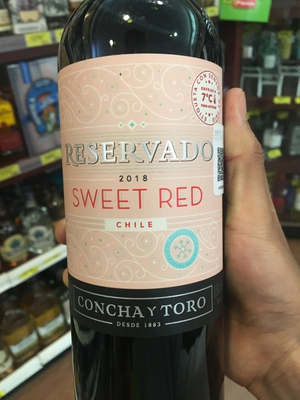reservado sweet red: (52, 18, 237, 398)
